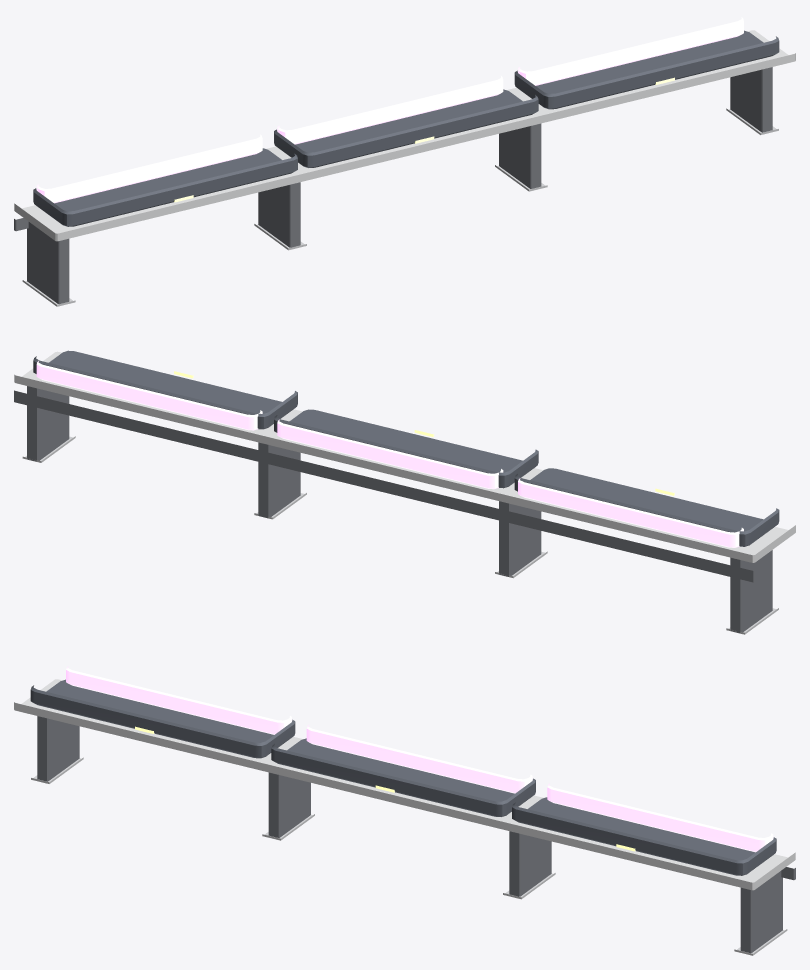
The model's file is iter_01.glb.
3 views of the same model, one above another, from view 1: azimuth 30°, elevation 25°; view 2: azimuth 150°, elevation 25°; view 3: azimuth 330°, elevation 25° (orthographic).
Visible parts, largest first — view 1: Cushions, Back_Bolster, Seat_Slab, Brackets, Floor_Plates; view 2: Cushions, Back_Bolster, Brackets, Seat_Slab, Wall_Rail, Floor_Plates; view 3: Cushions, Back_Bolster, Seat_Slab, Brackets, Floor_Plates.
Boxes of the visible parts, bbox=[...] form: Cushions: bbox=[33, 30, 779, 226]; Back_Bolster: bbox=[36, 17, 743, 203]; Seat_Slab: bbox=[14, 30, 795, 241]; Brackets: bbox=[27, 67, 772, 304]; Floor_Plates: bbox=[22, 108, 778, 306]; Cushions: bbox=[33, 350, 779, 546]; Back_Bolster: bbox=[36, 360, 743, 547]; Brackets: bbox=[27, 386, 772, 633]; Seat_Slab: bbox=[14, 351, 795, 562]; Wall_Rail: bbox=[14, 390, 755, 582]; Floor_Plates: bbox=[22, 436, 778, 634]; Cushions: bbox=[30, 679, 776, 875]; Back_Bolster: bbox=[66, 666, 773, 852]; Seat_Slab: bbox=[14, 679, 795, 890]; Brackets: bbox=[37, 716, 782, 953]; Floor_Plates: bbox=[31, 757, 787, 955].
Size of the model in its own units: 4 by 0.5 by 0.4.
